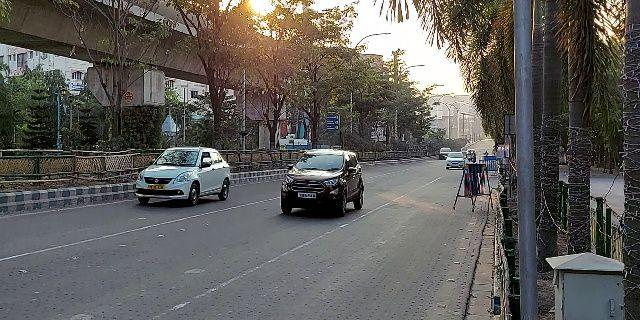Car: (131, 143, 235, 211), (277, 145, 366, 219), (442, 148, 467, 171)
